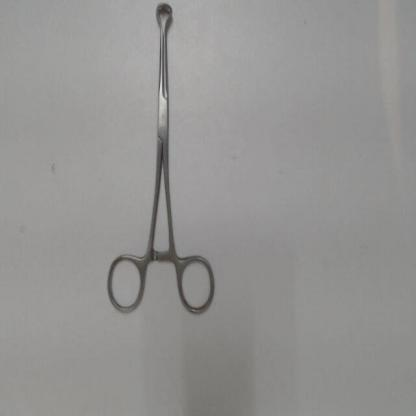Babcock Tissue Forceps: (105, 2, 220, 319)
